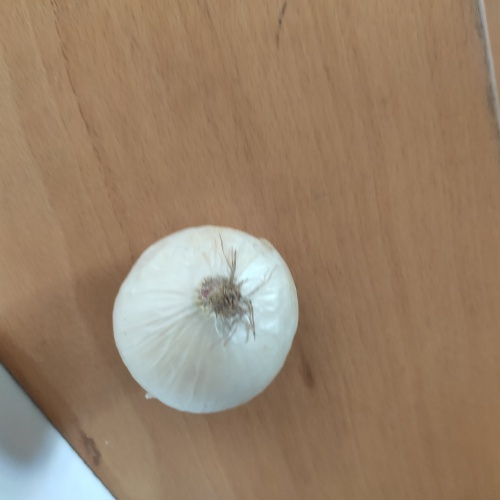cipolla: (104, 216, 303, 419)
